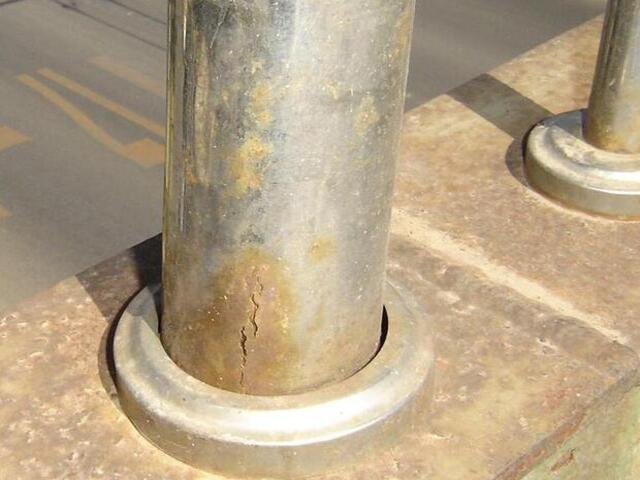Low: (198, 253, 294, 392)
